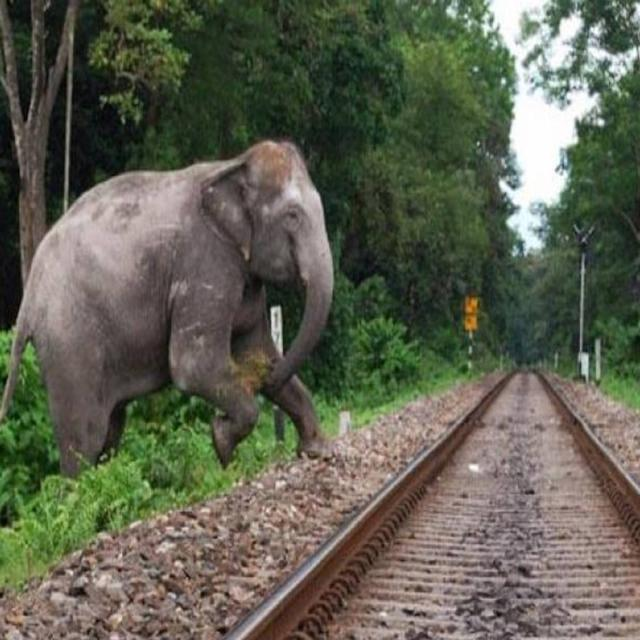Elephant: (2, 136, 348, 512)
